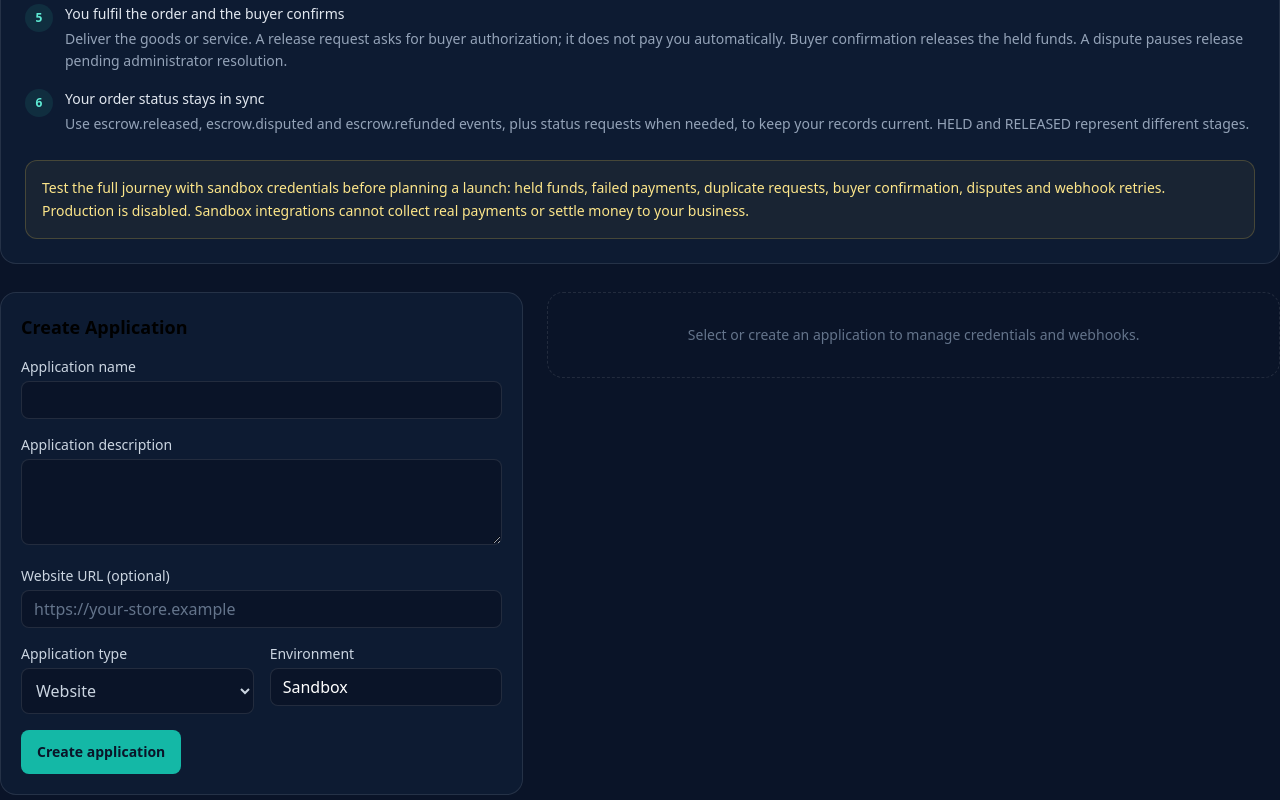
Test: creates an application, selects its details and deactivates it without enabling production
Later steps or results of the test are not shown.
(page scrolled)
Type "My Store" into the field labelled "Application name" at (262, 400), box [21,381,502,419]
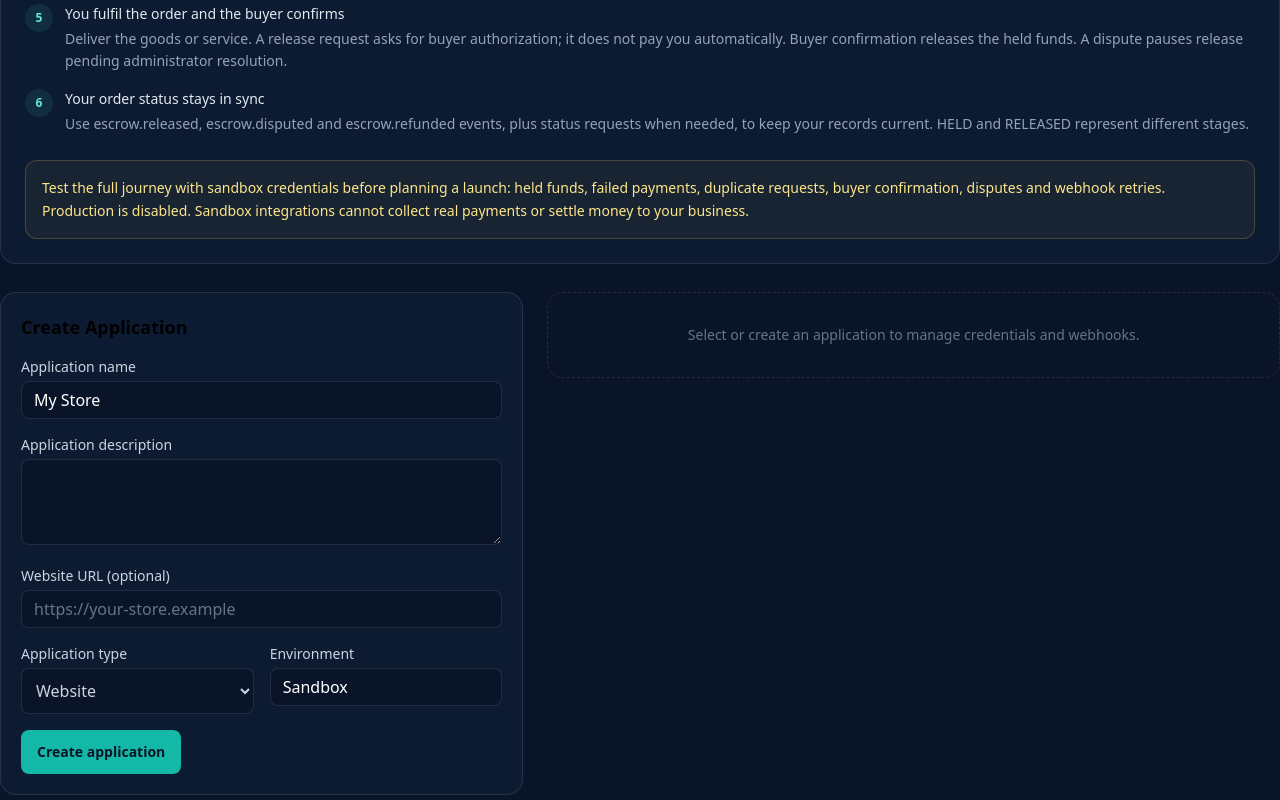
Type "A protected shopping store" into the text box labelled "Application description" at (262, 502), box [21,459,502,545]
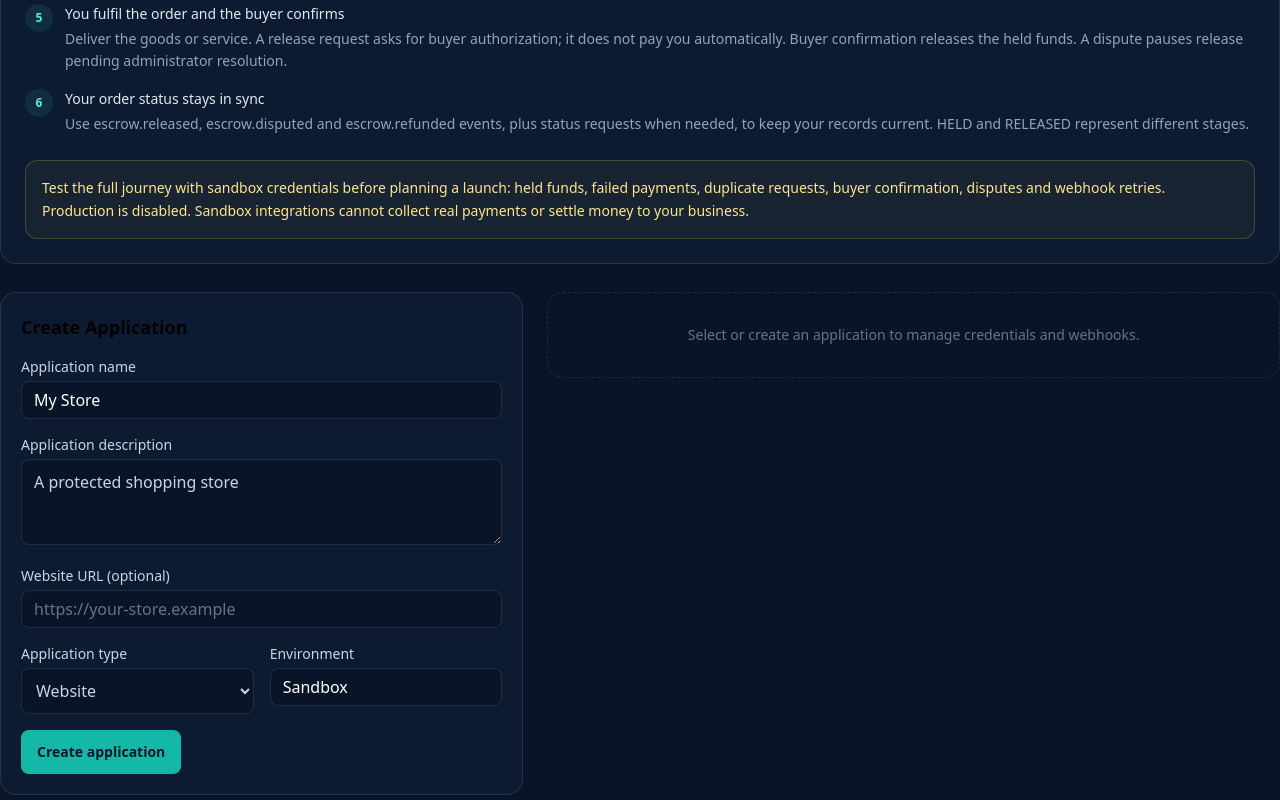
Type "https://store.example" into the field labelled "Website URL (optional)" at (262, 609), box [21,590,502,628]
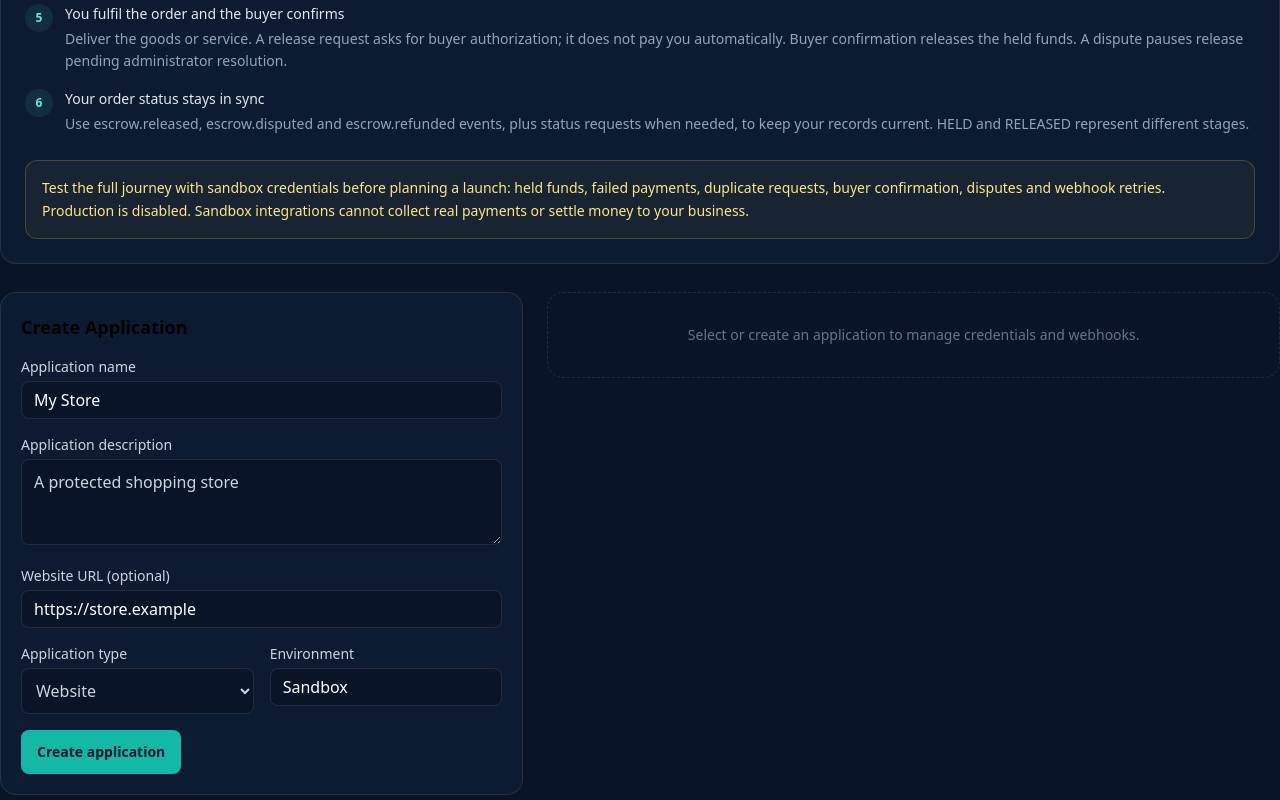
Click the button "Create application" at (101, 752), box [21,730,181,774]
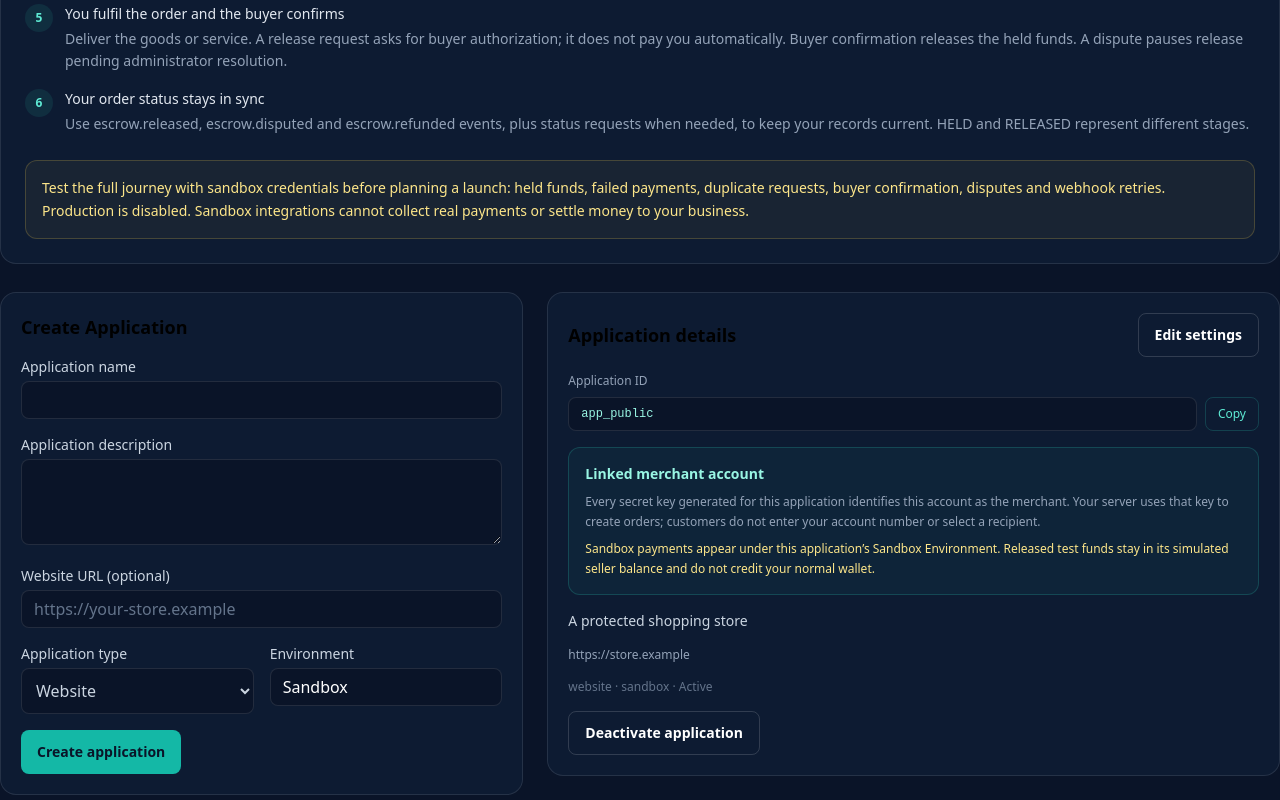
Result: the heading "Application details" is shown at [568,321,736,349]
